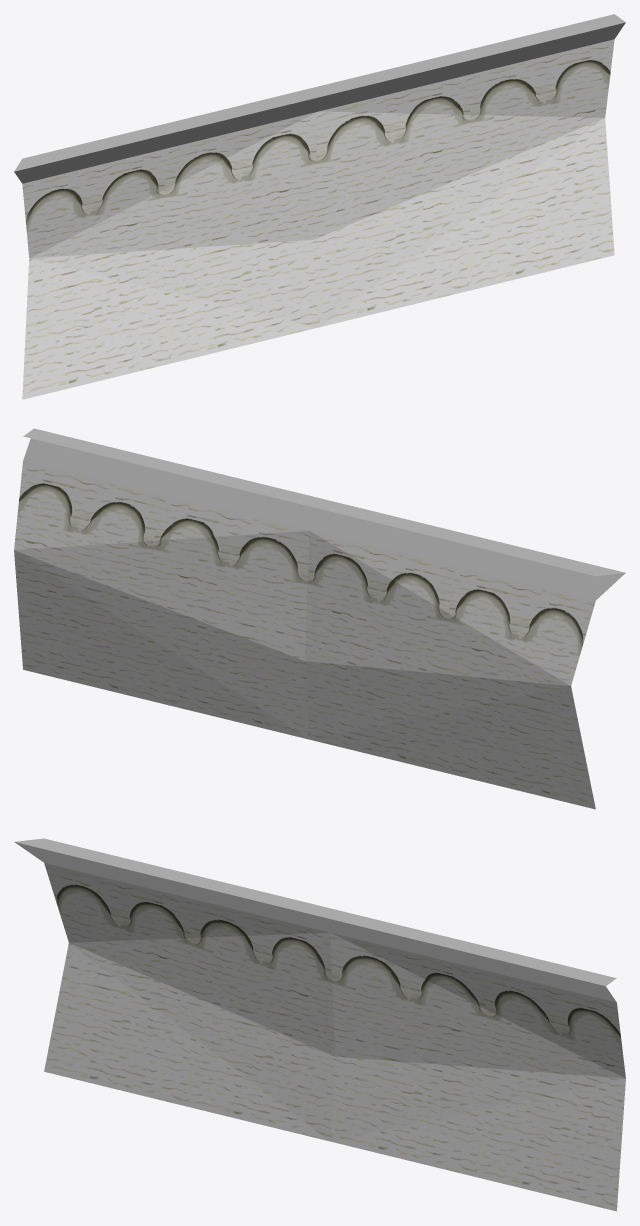
Rendered from W_A2l_xxxx [Verputz_NOSHADOW]_2976.glb.
3 views of the same model, one above another, from view 1: azimuth 30°, elevation 25°; view 2: azimuth 150°, elevation 25°; view 3: azimuth 330°, elevation 25° (orthographic). The views are drawn at different scales.
Parts seen in each view (by area): view 1: polySurfaceShape787, polySurfaceShape1065; view 2: polySurfaceShape787, polySurfaceShape1065; view 3: polySurfaceShape787, polySurfaceShape1065.
Part boxes in pixels (<box>): polySurfaceShape787: <box>22,39,614,399</box>; polySurfaceShape1065: <box>14,14,625,183</box>; polySurfaceShape787: <box>14,461,595,809</box>; polySurfaceShape1065: <box>23,428,625,600</box>; polySurfaceShape787: <box>44,863,625,1211</box>; polySurfaceShape1065: <box>14,838,616,1002</box>.
Size of the model in its own units: 1.03 by 0.3891 by 0.0607.
2 materials, 1 textured.
